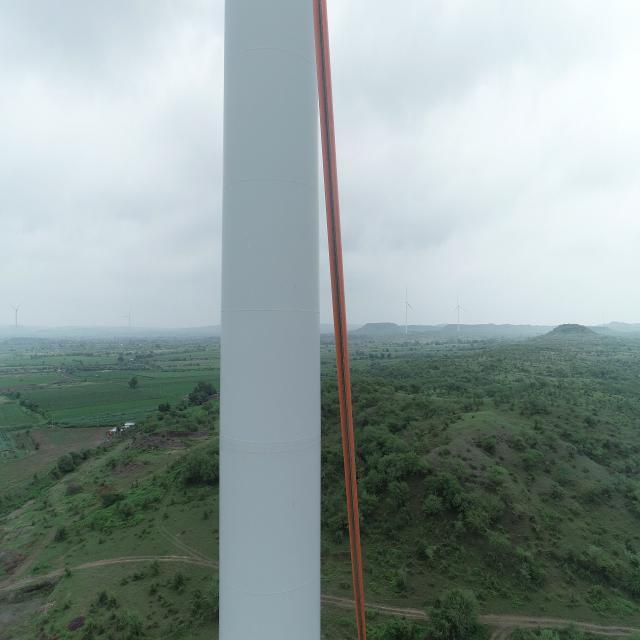Erosion: (308, 0, 370, 640)
